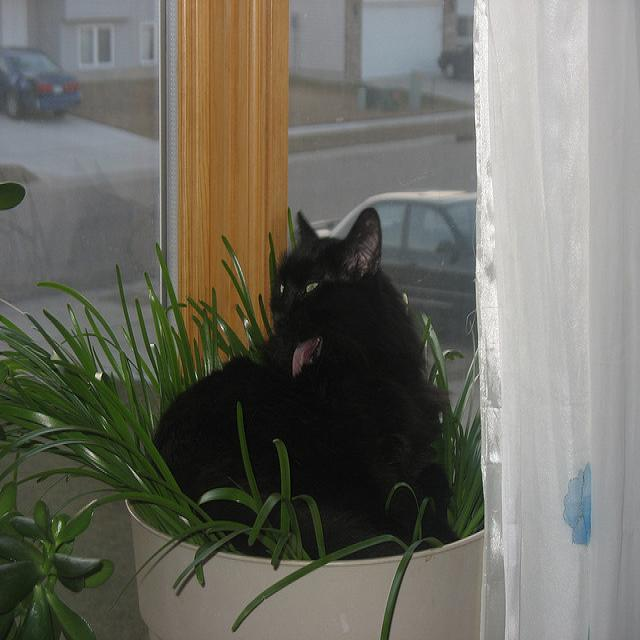Vehicle: (314, 188, 480, 445), (0, 45, 82, 116), (437, 38, 472, 79)
